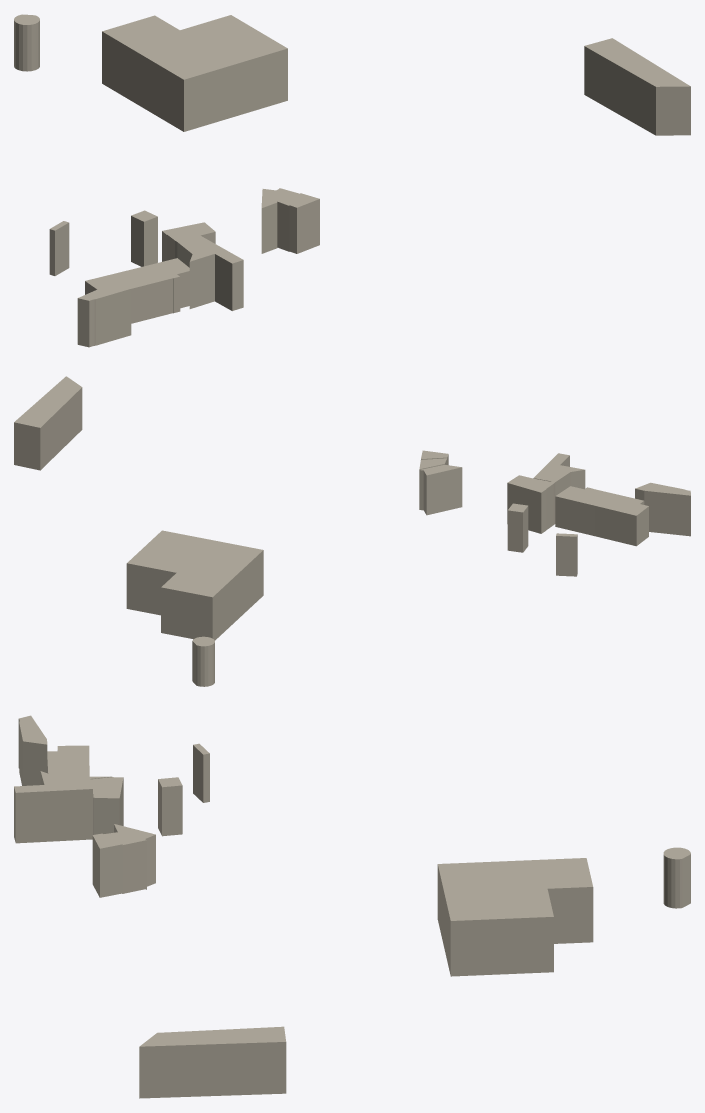
File: kalkara_68_24_collision.glb
3 renders of one model, top to bottom at view 1: azimuth 30°, elevation 25°; view 2: azimuth 150°, elevation 25°; view 3: azimuth 270°, elevation 25°, orthographic. The views are drawn at different scales.
Parts seen in each view (by area): view 1: geometry_0; view 2: geometry_0; view 3: geometry_0.
Part boxes in pixels (bbox=[...]): geometry_0: bbox=[14, 14, 690, 347]; geometry_0: bbox=[14, 376, 690, 686]; geometry_0: bbox=[14, 715, 690, 1098].
Size of the model in its own units: 156 by 14.53 by 130.
